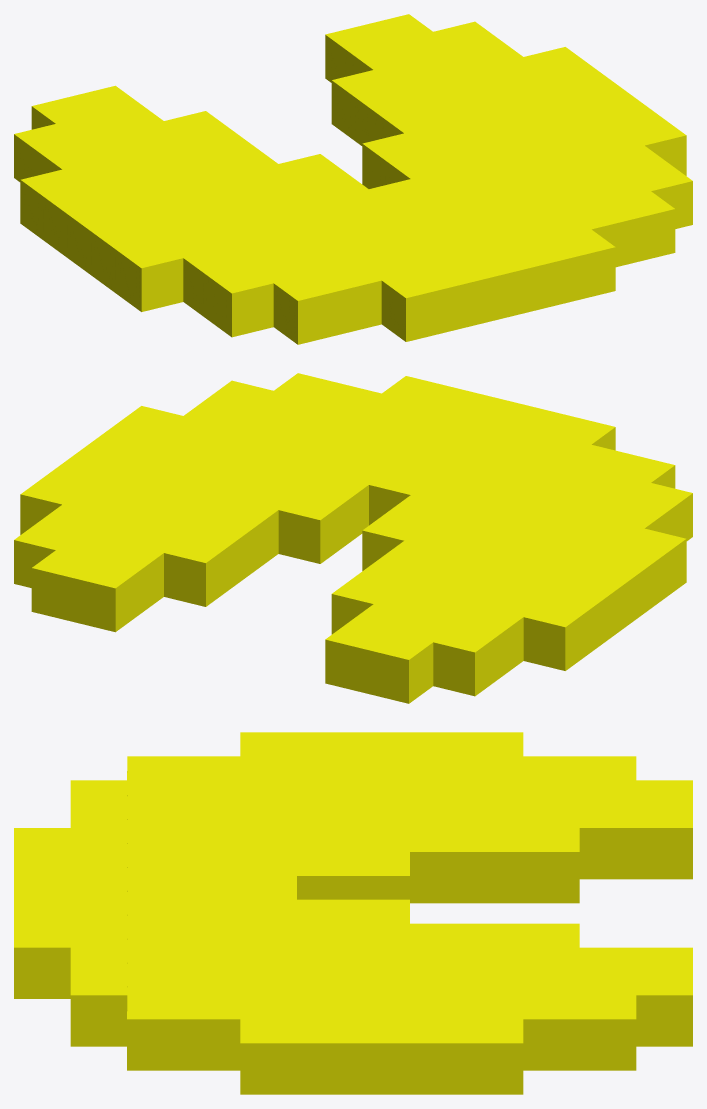
Rendered from pacman.fbx.
3 renders of one model, top to bottom at view 1: azimuth 30°, elevation 25°; view 2: azimuth 150°, elevation 25°; view 3: azimuth 270°, elevation 25°, orthographic. The views are drawn at different scales.
Visible parts, largest first — view 1: Würfel_102, Würfel_29_2, Würfel_43_2, Würfel_100_3, Würfel_72_3, Würfel_12, Würfel_14, Würfel_100_2, Würfel_13, Würfel_100_6, Würfel_71, Würfel_46_2 (+99 smaller); view 2: Würfel_88_2, Würfel_99, Würfel_32_4, Würfel_79_4, Würfel_46_2, Würfel_70_3, Würfel_88, Würfel_88_4, Würfel_66_3, Würfel_43_2, Würfel_80_3, Würfel_58_2 (+99 smaller); view 3: Würfel_46, Würfel_35, Würfel_32, Würfel_88_3, Würfel_66_4, Würfel_72_3, Würfel_76, Würfel_60, Würfel_58, Würfel_43, Würfel_4, Würfel_29 (+99 smaller).
Boxes of the visible parts, x1=… form: Würfel_102: x1=273, y1=273, x2=339, y2=344; Würfel_29_2: x1=207, y1=265, x2=273, y2=337; Würfel_43_2: x1=117, y1=240, x2=183, y2=311; Würfel_100_3: x1=381, y1=270, x2=447, y2=341; Würfel_72_3: x1=609, y1=191, x2=675, y2=262; Würfel_12: x1=508, y1=239, x2=573, y2=311; Würfel_14: x1=550, y1=229, x2=615, y2=300; Würfel_100_2: x1=466, y1=250, x2=531, y2=321; Würfel_13: x1=424, y1=260, x2=489, y2=331; Würfel_100_6: x1=316, y1=263, x2=381, y2=334; Würfel_71: x1=567, y1=201, x2=633, y2=267; Würfel_46_2: x1=20, y1=169, x2=86, y2=240; Würfel_88_2: x1=73, y1=560, x2=139, y2=632; Würfel_99: x1=367, y1=632, x2=433, y2=703; Würfel_32_4: x1=433, y1=624, x2=499, y2=696; Würfel_79_4: x1=278, y1=492, x2=344, y2=563; Würfel_46_2: x1=523, y1=599, x2=589, y2=670; Würfel_70_3: x1=164, y1=535, x2=229, y2=606; Würfel_88: x1=31, y1=550, x2=97, y2=621; Würfel_88_4: x1=325, y1=622, x2=390, y2=693; Würfel_66_3: x1=188, y1=517, x2=254, y2=588; Würfel_43_2: x1=620, y1=528, x2=686, y2=599; Würfel_80_3: x1=212, y1=500, x2=278, y2=571; Würfel_58_2: x1=596, y1=546, x2=662, y2=617; Würfel_46: x1=466, y1=1019, x2=523, y2=1094; Würfel_35: x1=183, y1=995, x2=240, y2=1070; Würfel_32: x1=579, y1=995, x2=636, y2=1070; Würfel_88_3: x1=579, y1=804, x2=636, y2=879; Würfel_66_4: x1=466, y1=828, x2=523, y2=903; Würfel_72_3: x1=70, y1=971, x2=127, y2=1046; Würfel_76: x1=353, y1=1019, x2=409, y2=1094; Würfel_60: x1=410, y1=1019, x2=466, y2=1094; Würfel_58: x1=297, y1=1019, x2=353, y2=1094; Würfel_43: x1=240, y1=1019, x2=296, y2=1094; Würfel_4: x1=523, y1=995, x2=579, y2=1070; Würfel_29: x1=127, y1=995, x2=183, y2=1070.
Size of the model in its own units: 130 by 10 by 120.
